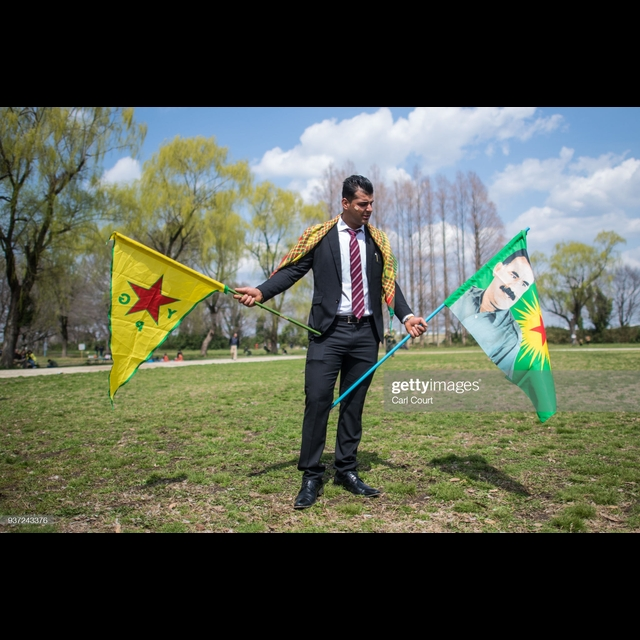APO: (489, 247, 530, 315)
KCK: (509, 292, 558, 378)
YPG: (113, 271, 178, 332)
